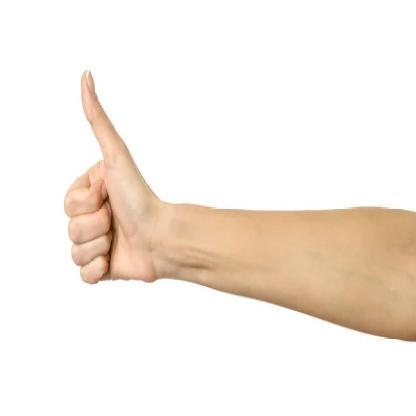thumb_up: (62, 66, 160, 284)
